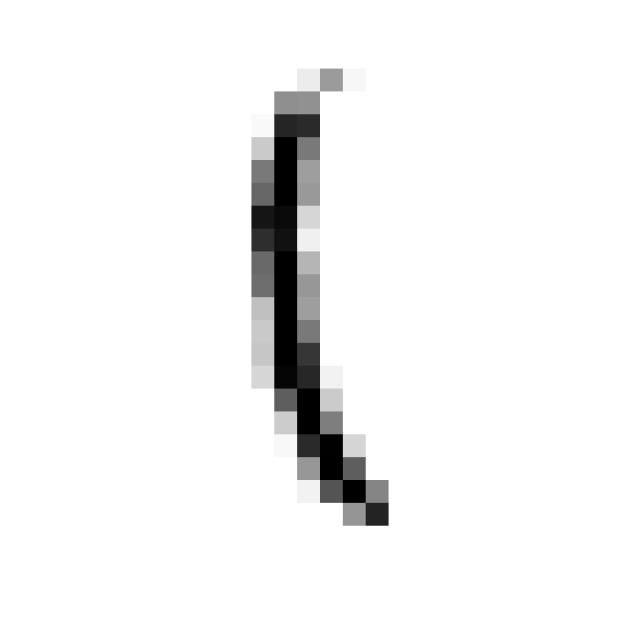1 -one-: (228, 48, 423, 544)
